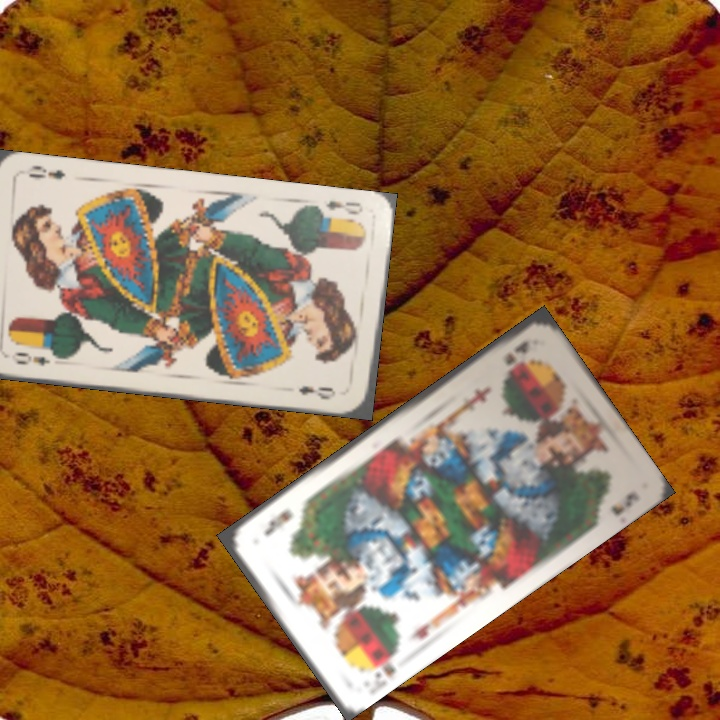EO: (322, 196, 365, 217), (11, 348, 53, 368)
SK: (357, 646, 400, 681), (500, 336, 532, 368)
